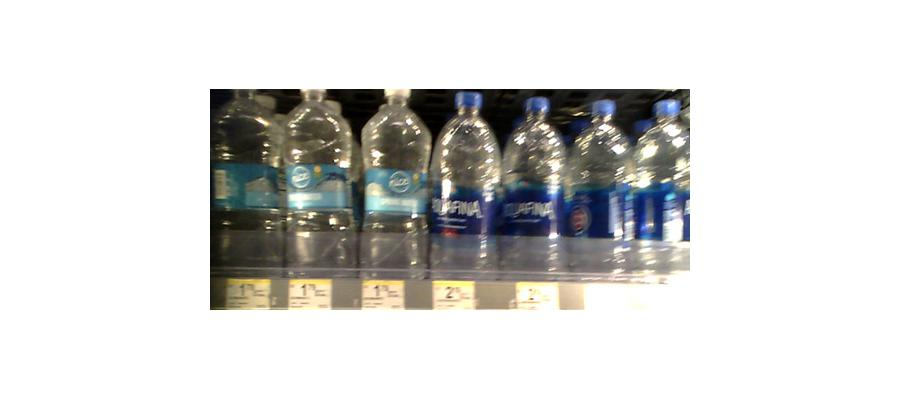bottle: (358, 86, 429, 281), (280, 84, 352, 273), (430, 92, 500, 278), (563, 97, 629, 278), (212, 87, 276, 271), (500, 91, 563, 273), (630, 97, 688, 280)
